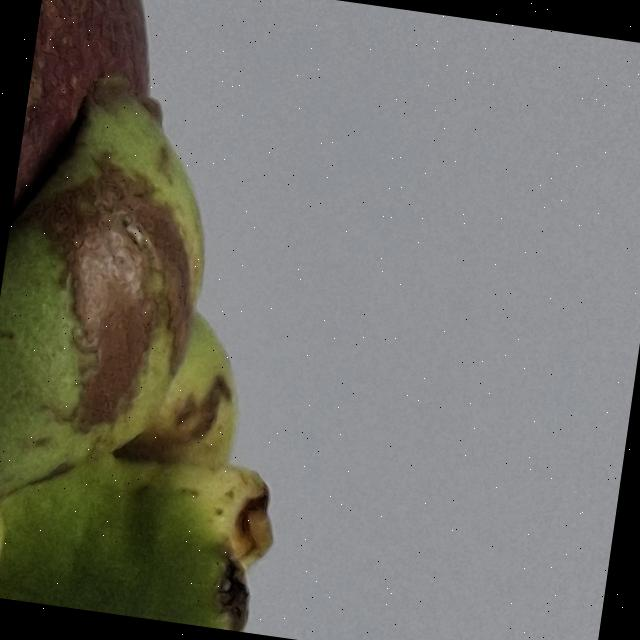mangosteen: (0, 0, 409, 640)
